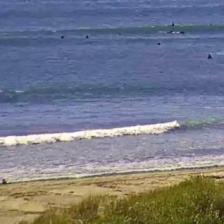surfer: (167, 30, 175, 35), (207, 54, 213, 60), (180, 31, 186, 35), (157, 42, 162, 46), (85, 36, 90, 40), (170, 22, 174, 26), (118, 32, 122, 36), (60, 36, 64, 40)
